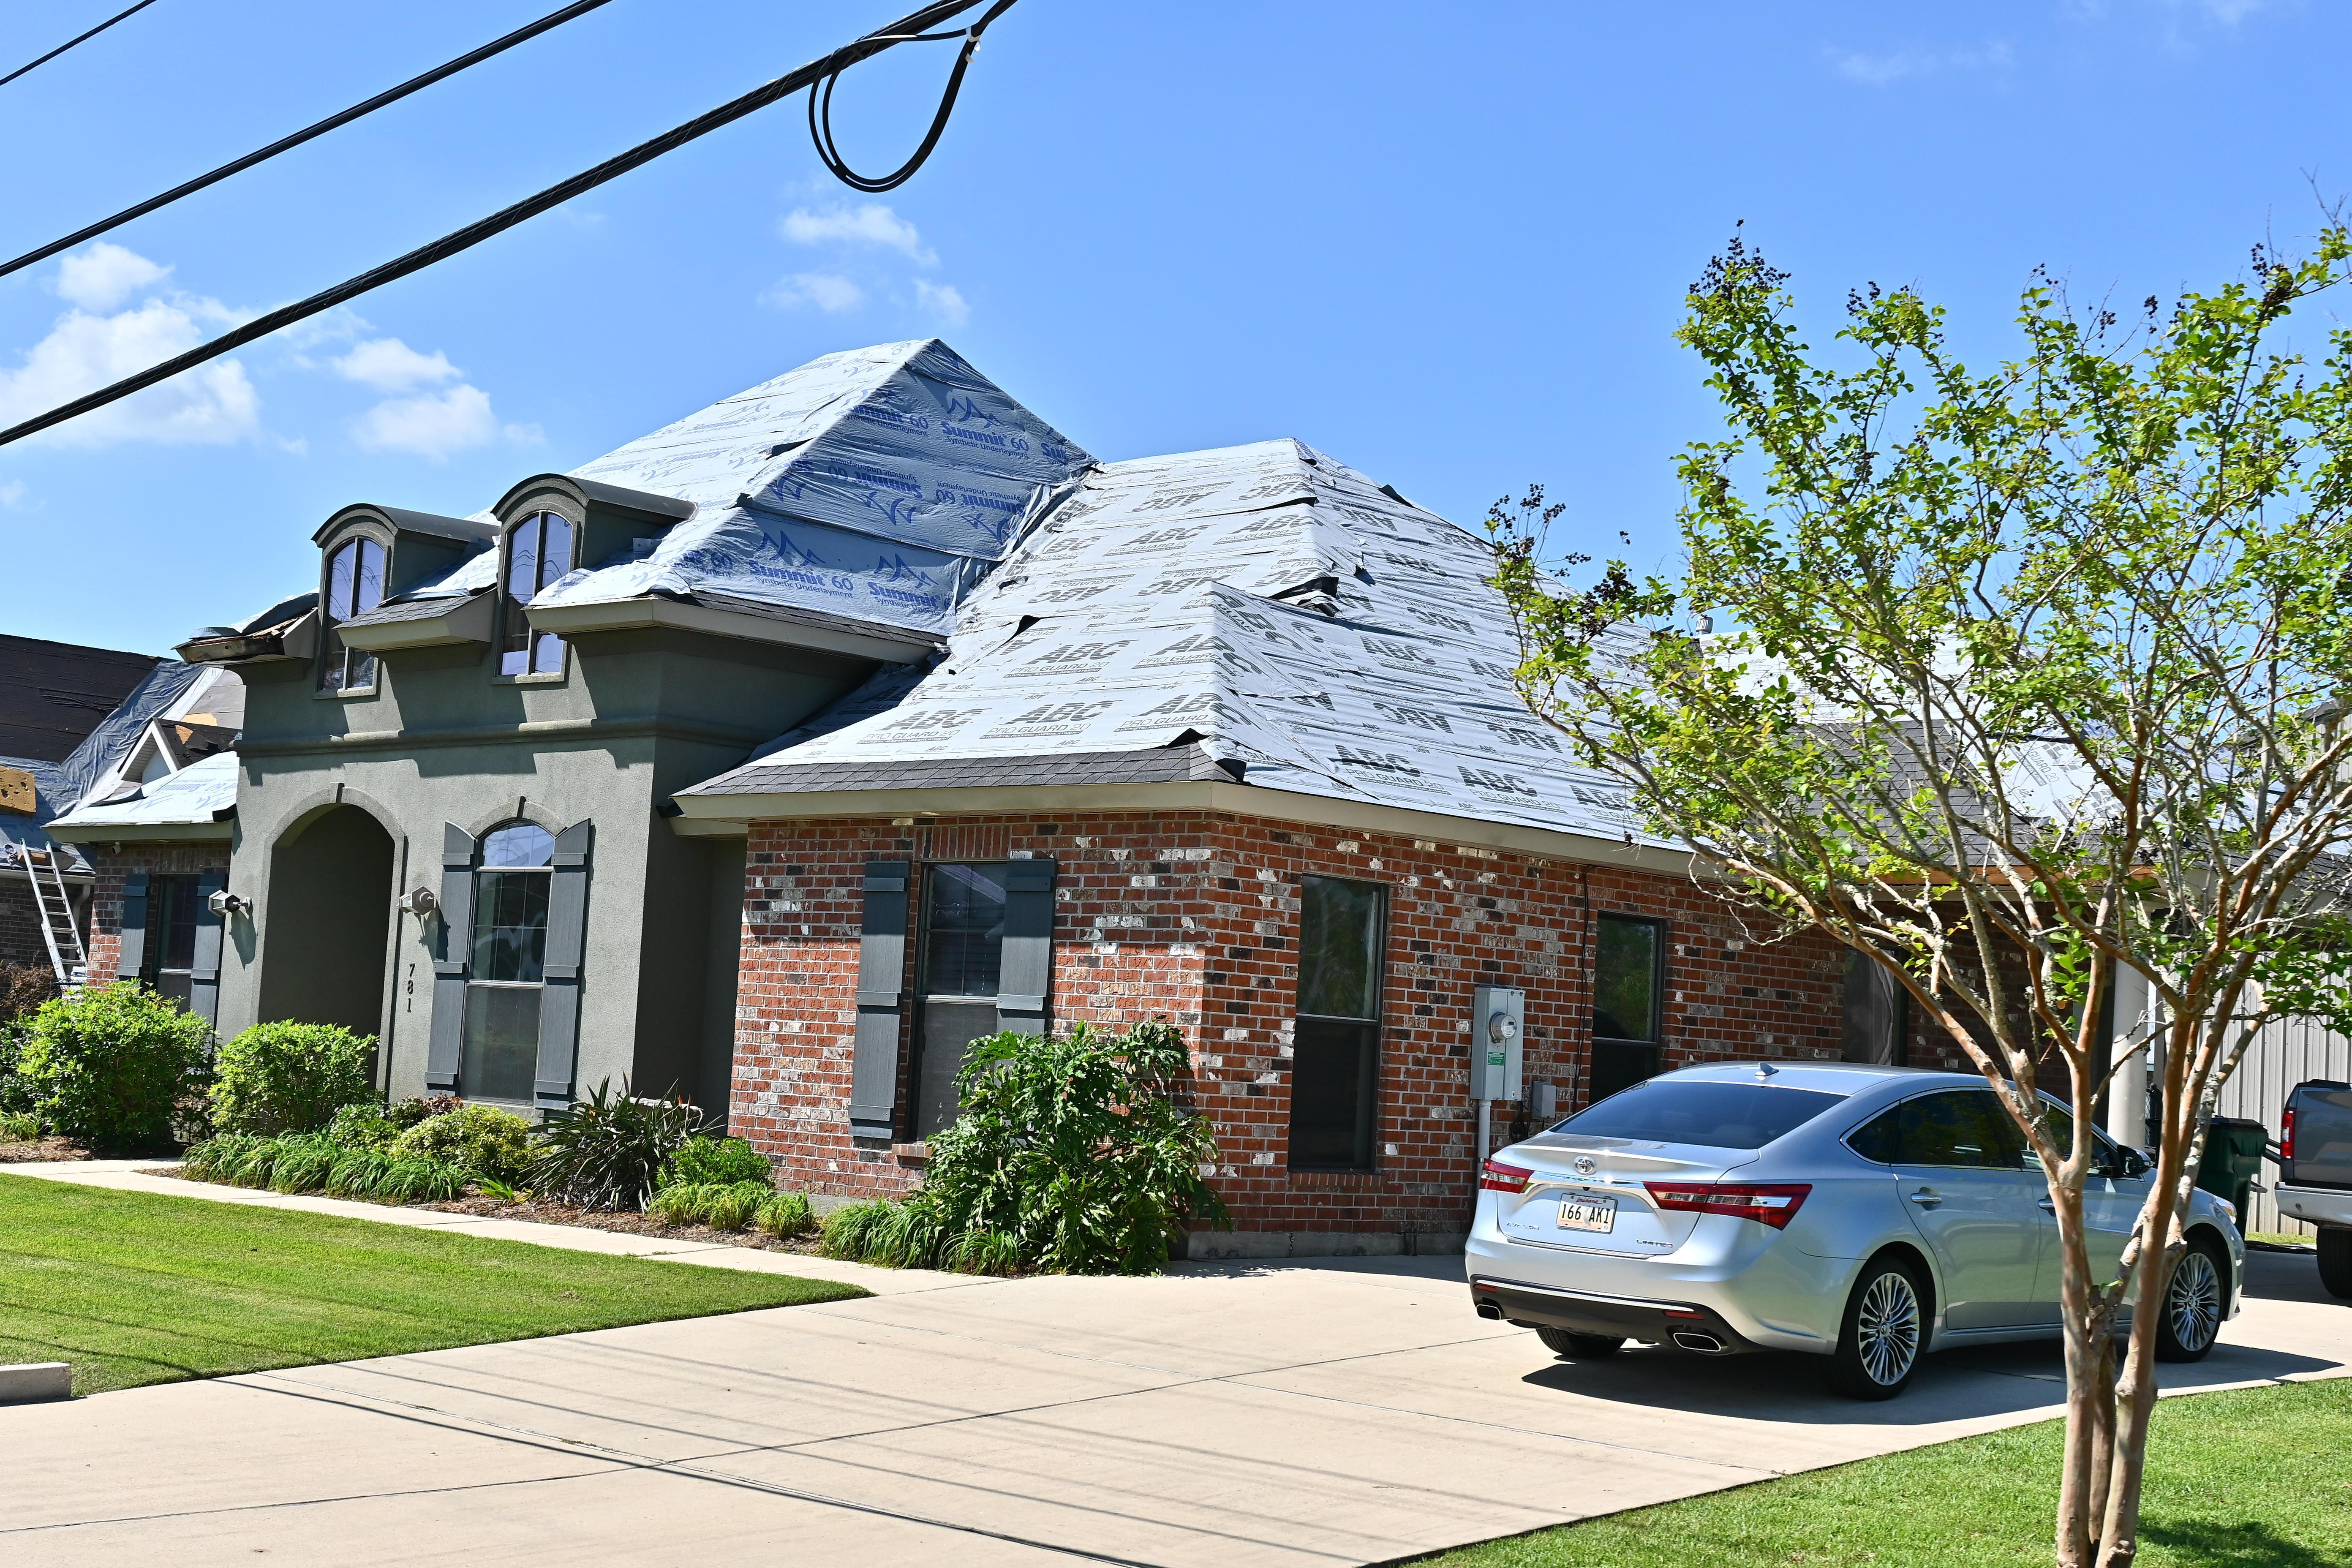minor: (47, 287, 2100, 1304)
